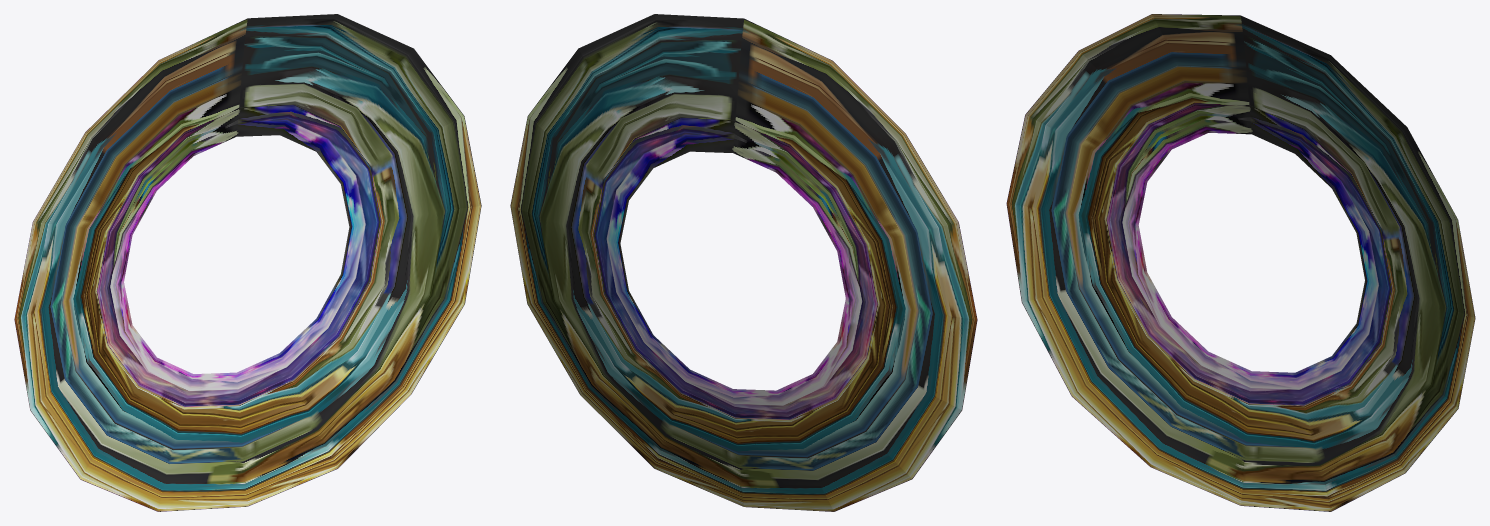
3 views of the same model, side by side, from view 1: azimuth 30°, elevation 25°; view 2: azimuth 150°, elevation 25°; view 3: azimuth 330°, elevation 25° (orthographic).
Parts seen in each view (by area): view 1: 1055019; view 2: 1055019; view 3: 1055019.
Part boxes in pixels (<box>): 1055019: <box>14,14,481,511</box>; 1055019: <box>510,14,977,511</box>; 1055019: <box>1006,14,1475,511</box>.
Size of the model in its own units: 42.96 by 42.92 by 1.84.
